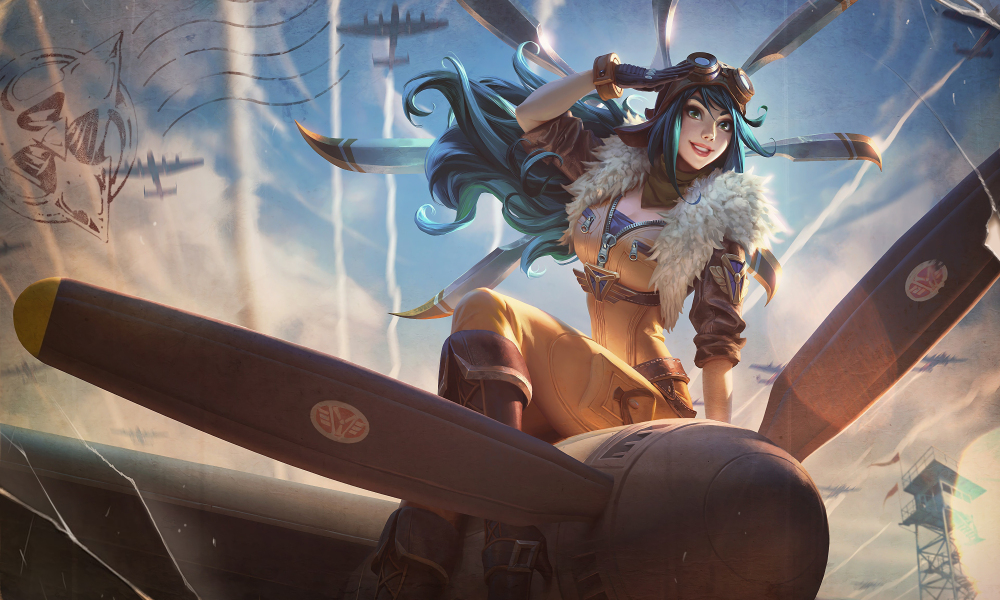face: (621, 36, 774, 208)
